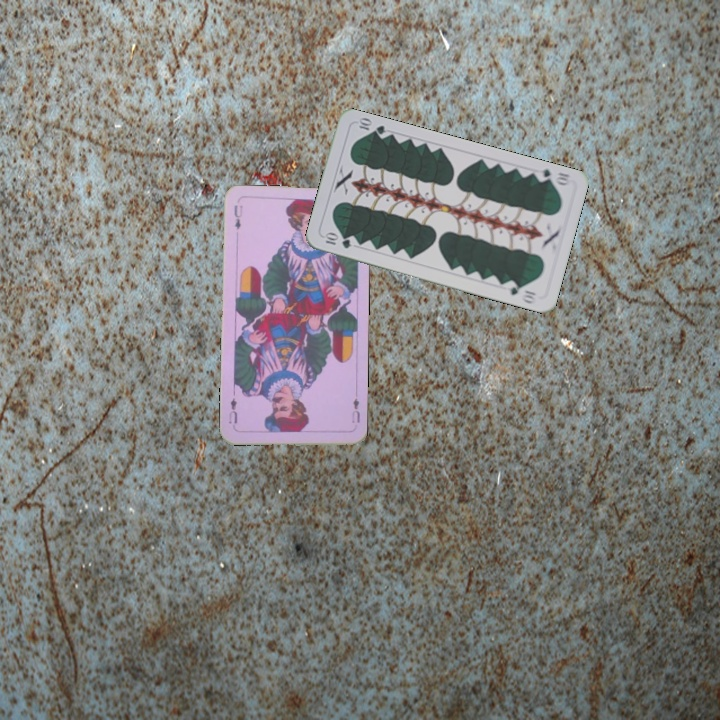EU: (230, 201, 245, 232), (348, 394, 362, 425)
G10: (532, 165, 573, 188), (320, 230, 353, 251)
